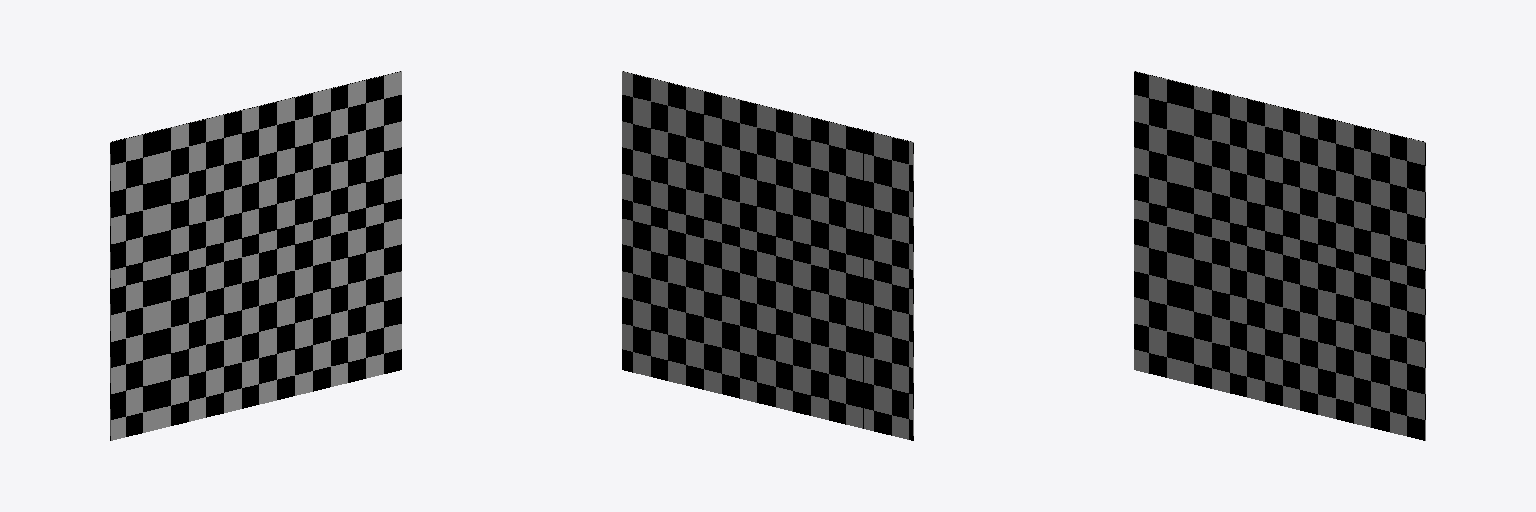
The picture shows the model from 3 angles: view 1: azimuth 30°, elevation 25°; view 2: azimuth 150°, elevation 25°; view 3: azimuth 330°, elevation 25°; orthographic projection.
Visible parts, largest first — view 1: Cube_Cube.002; view 2: Cube_Cube.002; view 3: Cube_Cube.002.
Boxes of the visible parts, x1=… form: Cube_Cube.002: x1=110, y1=71, x2=401, y2=440; Cube_Cube.002: x1=622, y1=71, x2=913, y2=440; Cube_Cube.002: x1=1134, y1=71, x2=1425, y2=440.
Size of the model in its own units: 411 by 402 by 2.
1 materials, 1 textured.